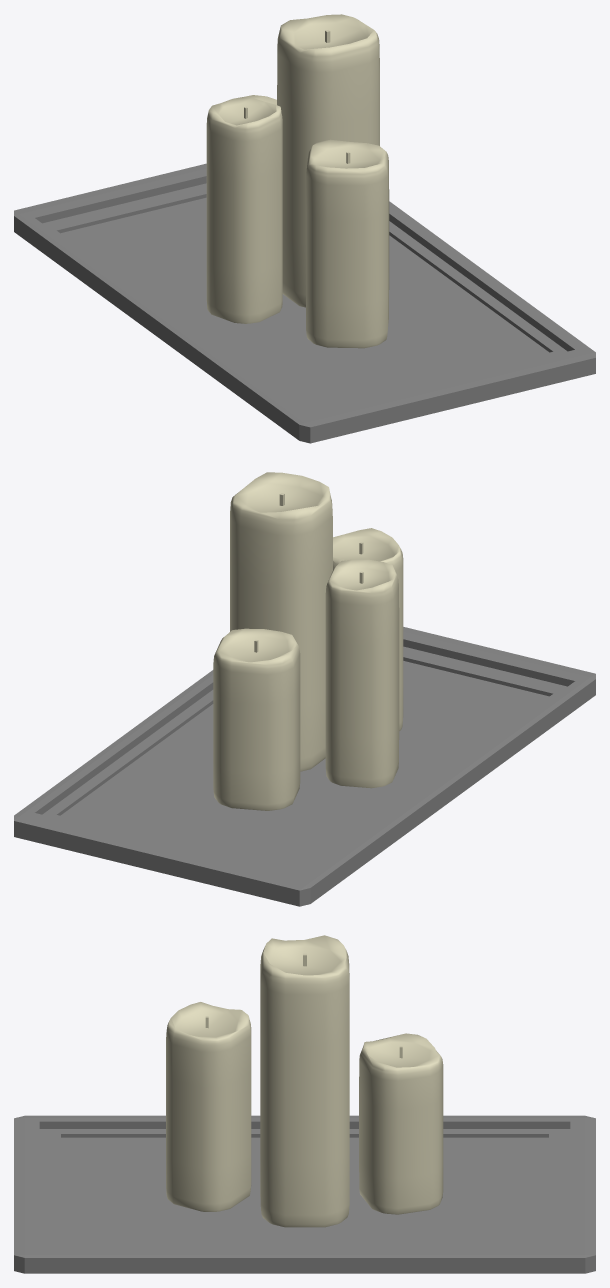
File: CandlePlate.fbx
3 views of the same model, one above another, from view 1: azimuth 30°, elevation 25°; view 2: azimuth 150°, elevation 25°; view 3: azimuth 270°, elevation 25° (orthographic).
Visible parts, largest first — view 1: KynttiläHomma; view 2: KynttiläHomma; view 3: KynttiläHomma.
Boxes of the visible parts, bbox=[...] form: KynttiläHomma: bbox=[14, 14, 595, 443]; KynttiläHomma: bbox=[14, 472, 595, 906]; KynttiläHomma: bbox=[14, 935, 595, 1273].
Size of the model in its own units: 18.68 by 16.04 by 32.32.
